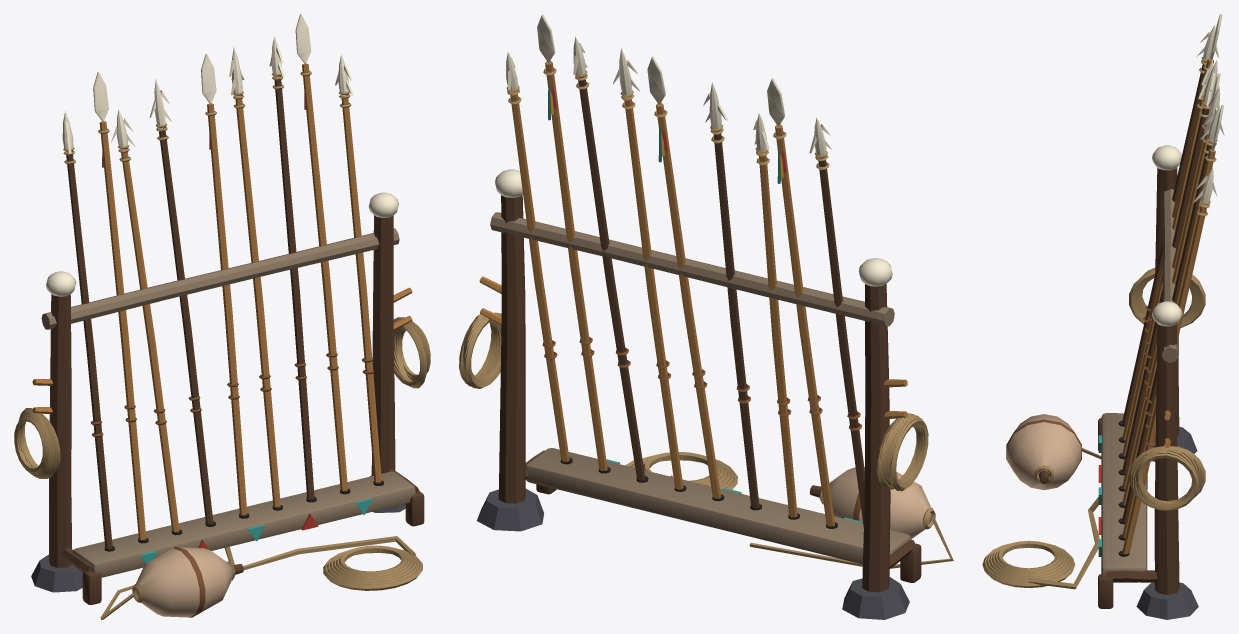
File: deco_harpoon_rack.fbx
The picture shows the model from 3 angles, left to right: view 1: azimuth 30°, elevation 25°; view 2: azimuth 150°, elevation 25°; view 3: azimuth 270°, elevation 25°; orthographic projection. The views are drawn at different scales.
Parts seen in each view (by area): view 1: HarpoonRack_Harpoons, HarpoonRack_Rack, HarpoonRack_Line; view 2: HarpoonRack_Rack, HarpoonRack_Harpoons, HarpoonRack_Line; view 3: HarpoonRack_Rack, HarpoonRack_Harpoons, HarpoonRack_Line.
Boxes of the visible parts, left/top/right/bottom form: HarpoonRack_Harpoons: left=62, top=14, right=381, bottom=548; HarpoonRack_Rack: left=31, top=192, right=424, bottom=604; HarpoonRack_Line: left=14, top=317, right=430, bottom=619; HarpoonRack_Rack: left=477, top=169, right=921, bottom=619; HarpoonRack_Harpoons: left=506, top=14, right=864, bottom=527; HarpoonRack_Line: left=459, top=312, right=953, bottom=568; HarpoonRack_Rack: left=1098, top=145, right=1198, bottom=619; HarpoonRack_Harpoons: left=1122, top=14, right=1224, bottom=553; HarpoonRack_Line: left=982, top=267, right=1205, bottom=589.
Size of the model in its own units: 288 by 344 by 157.
